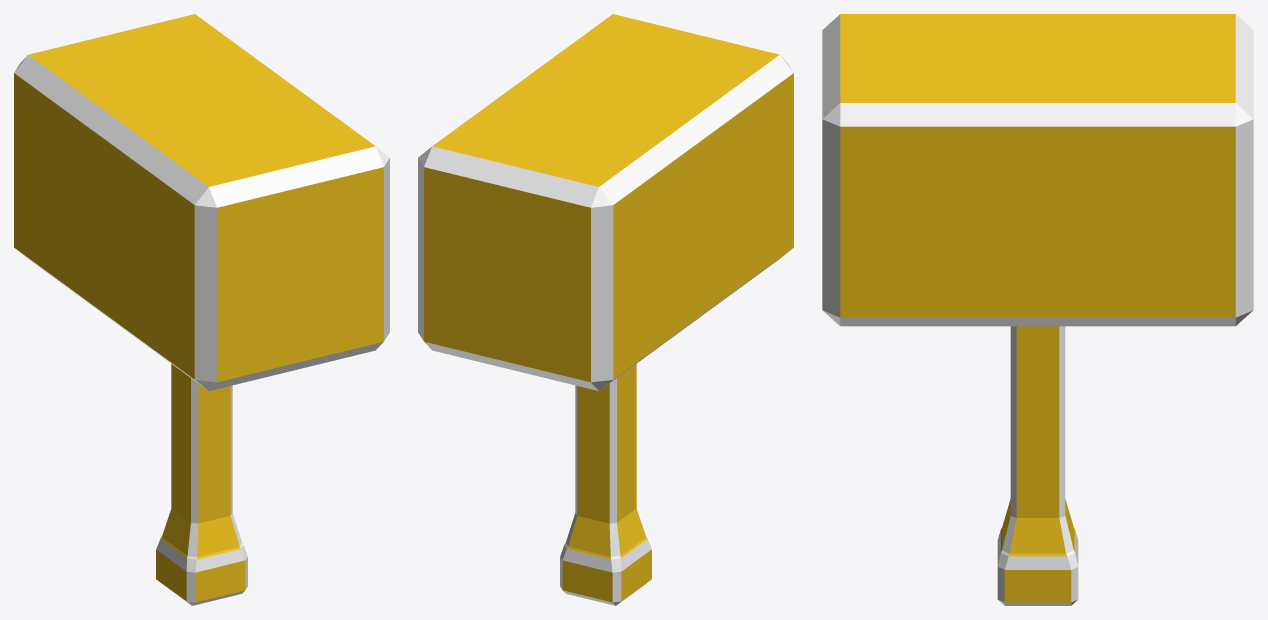
File: hammer.gltf
3 renders of one model, left to right at view 1: azimuth 30°, elevation 25°; view 2: azimuth 150°, elevation 25°; view 3: azimuth 270°, elevation 25°, orthographic. The views are drawn at different scales.
Parts seen in each view (by area): view 1: ハンマー; view 2: ハンマー; view 3: ハンマー.
Part boxes in pixels (x1=…): ハンマー: x1=14, y1=14, x2=389, y2=605; ハンマー: x1=418, y1=14, x2=793, y2=605; ハンマー: x1=822, y1=14, x2=1253, y2=605.
Bounding box in the file's own units: 2.69 × 6.43 × 4.7.
Materials: 1 (1 with a texture image).
